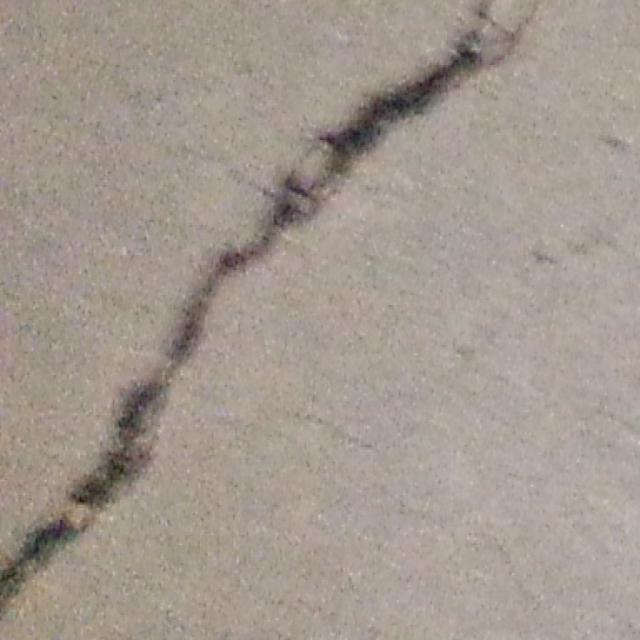Annular: (363, 3, 516, 145), (267, 128, 350, 232)
Diagonal: (0, 236, 285, 632)
